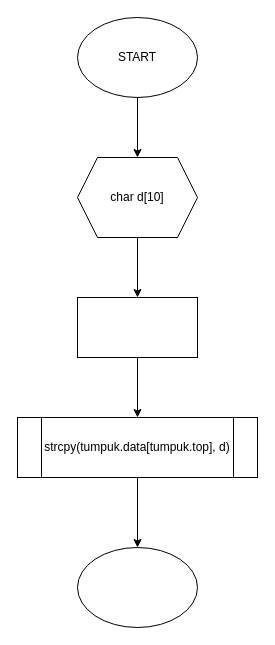
Image size: 275x645. Some labels were removed from this diagram. The shapes that lost their labels are listed below. From the top down, each one's centre as x and y in pixels, then its label:
At pixel 137 327: "tumpuk.top ++".
At pixel 137 587: "END".
